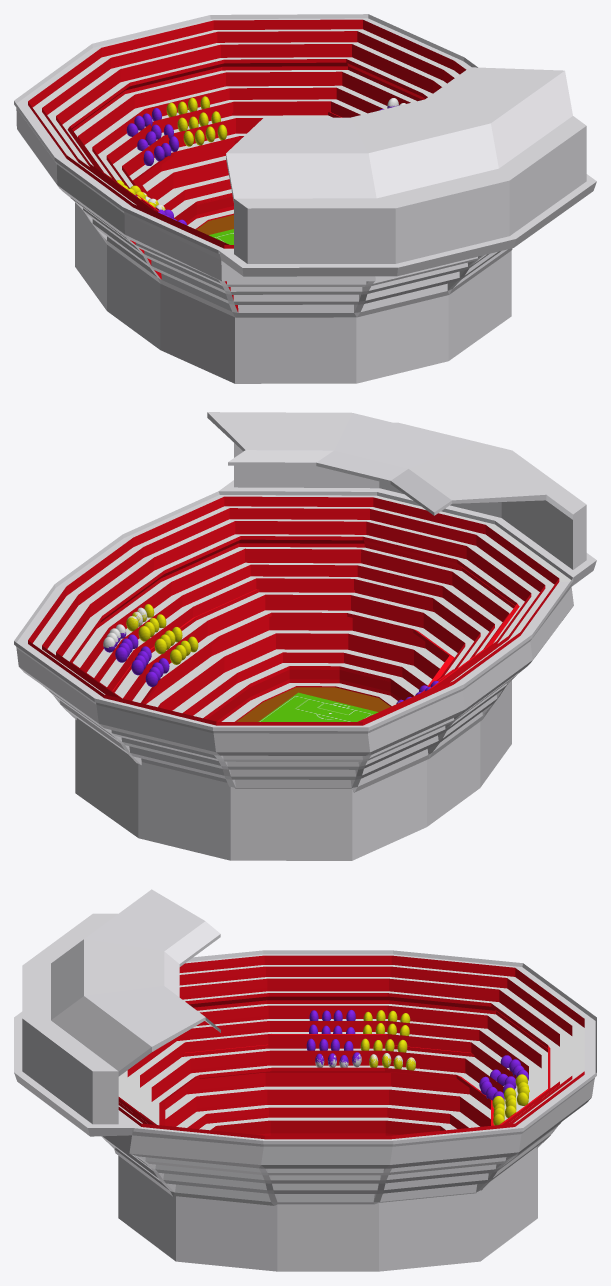
The model's file is STADIUM(re).fbx.
3 renders of one model, top to bottom at view 1: azimuth 30°, elevation 25°; view 2: azimuth 150°, elevation 25°; view 3: azimuth 270°, elevation 25°, orthographic. The views are drawn at different scales.
Visible parts, largest first — view 1: Cube, Sphere.006, Sphere.114; view 2: Cube, Sphere.006, Sphere.114; view 3: Cube, Sphere.006, Sphere.114.
Part boxes in pixels (bbox=[...]): Cube: bbox=[14, 14, 596, 383]; Sphere.006: bbox=[109, 96, 227, 210]; Sphere.114: bbox=[126, 105, 398, 225]; Cube: bbox=[14, 412, 596, 860]; Sphere.006: bbox=[126, 604, 198, 664]; Sphere.114: bbox=[103, 632, 438, 703]; Cube: bbox=[14, 889, 596, 1271]; Sphere.006: bbox=[360, 1010, 529, 1125]; Sphere.114: bbox=[306, 1009, 528, 1100].
Size of the model in its own units: 2646 by 1513 by 3424.
8 materials, 1 textured.
